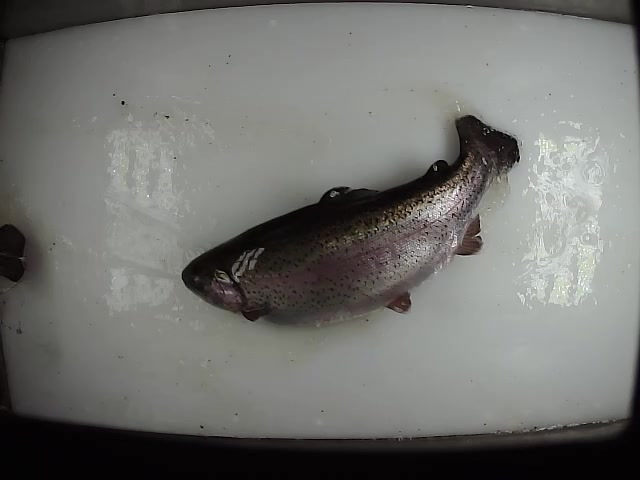fish: (177, 112, 523, 329)
